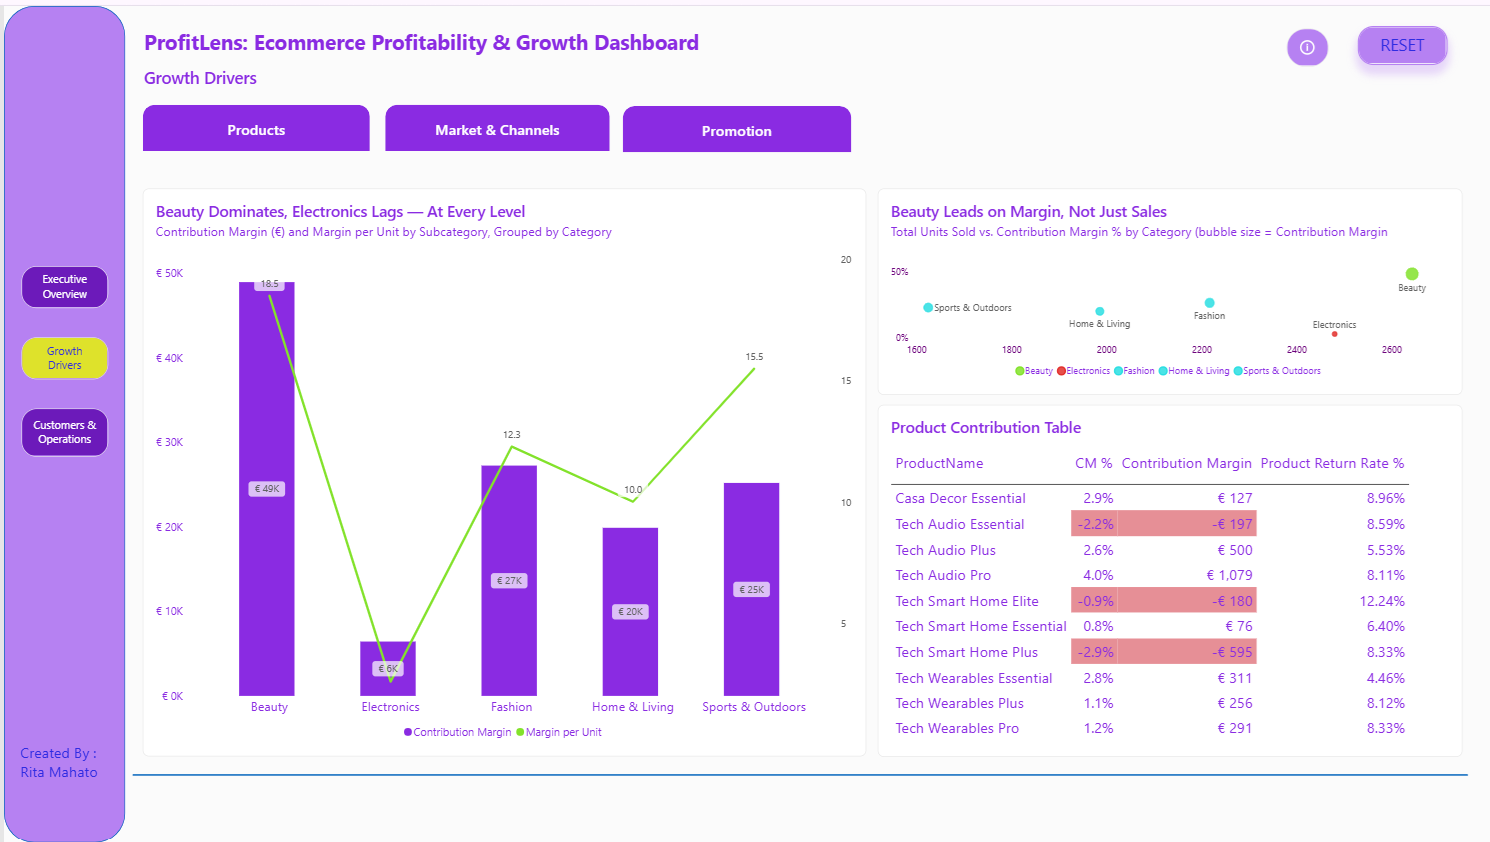

The page's visual inventory and layout, read from the dashboard file:
{"tool":"powerbi","page":{"name":"Growth Drivers","canvas":[1920,1080],"ordinal":1},"visuals":[{"type":"shape","box":[0,0,156.4,1080.6],"z":0},{"type":"actionButton","title":"Exec Overview Button","box":[22,336,112,54],"z":1000},{"type":"actionButton","title":"GD Button","box":[22,428,112,54],"z":2000},{"type":"actionButton","title":"Cust & Ops Button","box":[22,520,112,62],"z":3000},{"type":"textbox","title":"Sign Text box","box":[21.7,950.1,112.2,67],"z":4000},{"type":"textbox","title":"Report name Text box","box":[181,27.1,743.8,50.7],"z":5000},{"type":"actionButton","title":"Reset Button","box":[1746,26,116,50],"z":6000},{"type":"lineClusteredColumnComboChart","title":"Beauty Dominates, Electronics Lags — At Every Level","fields":{"Category":["DimProduct.Category","DimProduct.Subcategory"],"Y":["Measures (2).Contribution Margin"],"Y2":["Measures (2).Margin per Unit"]},"box":[179.2,235.3,933.8,732.9],"z":7000},{"type":"scatterChart","title":"Beauty Leads on Margin, Not Just Sales","fields":{"Series":["DimProduct.Category"],"Size":["Measures (2).Contribution Margin"],"X":["Measures (2).Total Units Sold"],"Y":["Measures (2).CM %"]},"box":[1127.4,235.3,754.6,266],"z":8000},{"type":"tableEx","title":"Product Contribution Table ","fields":{"Values":["DimProduct.ProductName","Measures (2).CM %","Measures (2).Contribution Margin","Measures (2).Product Return Rate %"]},"box":[1127.4,513.9,754.6,454.2],"z":9000},{"type":"actionButton","title":"Product Button","box":[179.2,126.7,293.2,59.7],"z":10000},{"type":"actionButton","title":"Market & ChannelButton","box":[492.2,126.7,289.5,59.7],"z":11000},{"type":"actionButton","title":"Promotion Button","box":[798.1,128.5,295,59.7],"z":12000},{"type":"actionButton","title":"Info On","box":[1654.6,28.6,54.5,49.4],"z":20000},{"type":"textbox","title":"Page name Text box","box":[181,77.8,155.6,47.1],"z":21000},{"type":"shape","title":"Separator","box":[166.5,968.2,1722.8,48.9],"z":24002}]}

Visuals, with their boxes in screenshot pixels (x1, y1, x2, y2), scaled from the page's 1920x1080 canvas onto the 1490x842 screenshot:
shape: [0, 0, 121, 841]
"Exec Overview Button" actionButton: [17, 262, 104, 304]
"GD Button" actionButton: [17, 334, 104, 376]
"Cust & Ops Button" actionButton: [17, 405, 104, 454]
"Sign Text box" textbox: [17, 741, 104, 793]
"Report name Text box" textbox: [140, 21, 718, 61]
"Reset Button" actionButton: [1355, 20, 1445, 59]
"Beauty Dominates, Electronics Lags — At Every Level" lineClusteredColumnComboChart: [139, 183, 864, 755]
"Beauty Leads on Margin, Not Just Sales" scatterChart: [875, 183, 1461, 391]
"Product Contribution Table " tableEx: [875, 401, 1461, 755]
"Product Button" actionButton: [139, 99, 367, 145]
"Market & ChannelButton" actionButton: [382, 99, 607, 145]
"Promotion Button" actionButton: [619, 100, 848, 147]
"Info On" actionButton: [1284, 22, 1326, 61]
"Page name Text box" textbox: [140, 61, 261, 97]
"Separator" shape: [129, 755, 1466, 793]
